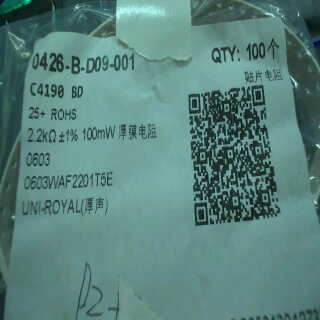2.2kR: (24, 126, 58, 147)
